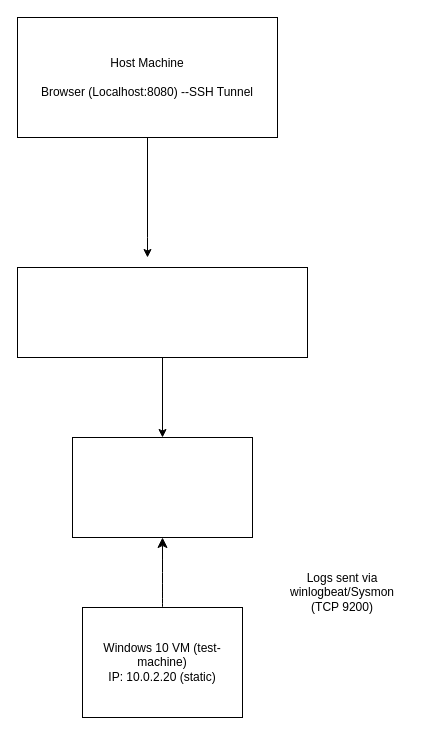
Image size: 435x735. Some labels were removed from this diagram. The centre of each missing label's shape, as x and y in pixels:
"Ubuntu Server (ELK-server) IP:10.0.2.15 Elasticsearch: 9200 Kibana :5601" goes at point 162,487.
"VitrualBox NAT Network (10.0.2.0/24)" goes at point 162,312.
